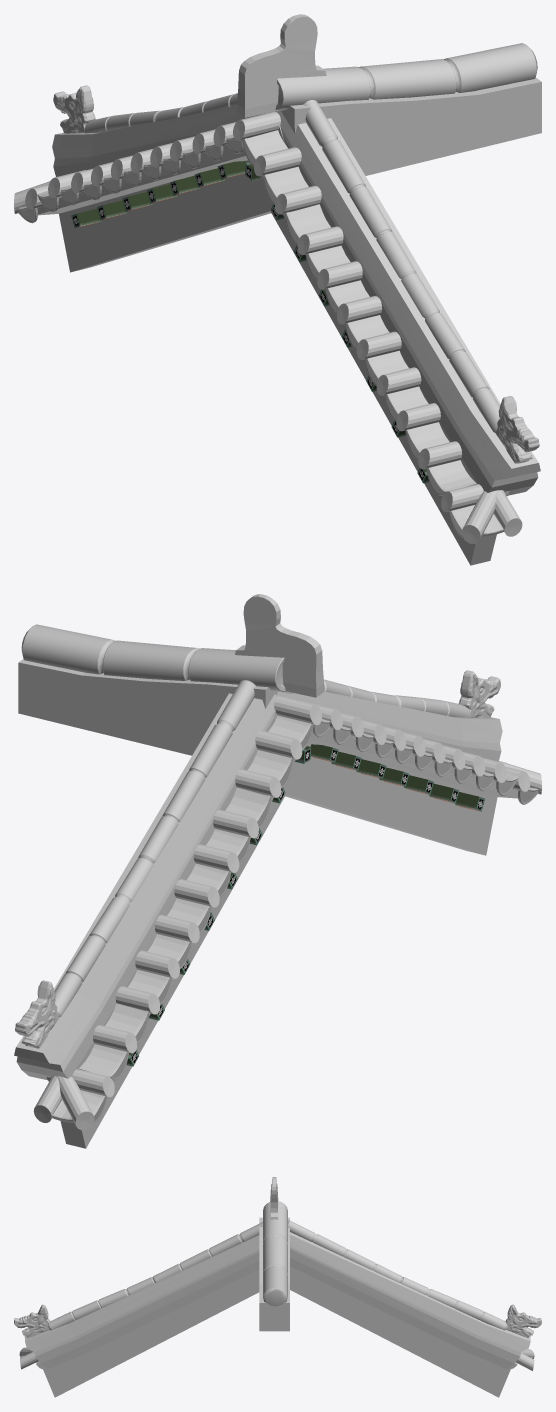
File: SM_R_RoofOuter_14.fbx
The picture shows the model from 3 angles, top to bottom: view 1: azimuth 30°, elevation 25°; view 2: azimuth 150°, elevation 25°; view 3: azimuth 270°, elevation 25°; orthographic projection. The views are drawn at different scales.
Visible parts, largest first — view 1: SM_R_RoofOuter_14_LOD0; view 2: SM_R_RoofOuter_14_LOD0; view 3: SM_R_RoofOuter_14_LOD0.
Part boxes in pixels (box(x1,y1,x2,y2)): SM_R_RoofOuter_14_LOD0: box(14, 14, 541, 565); SM_R_RoofOuter_14_LOD0: box(14, 594, 541, 1148); SM_R_RoofOuter_14_LOD0: box(14, 1177, 541, 1397).
Bounding box in the file's own units: 370 × 1046 × 483.
